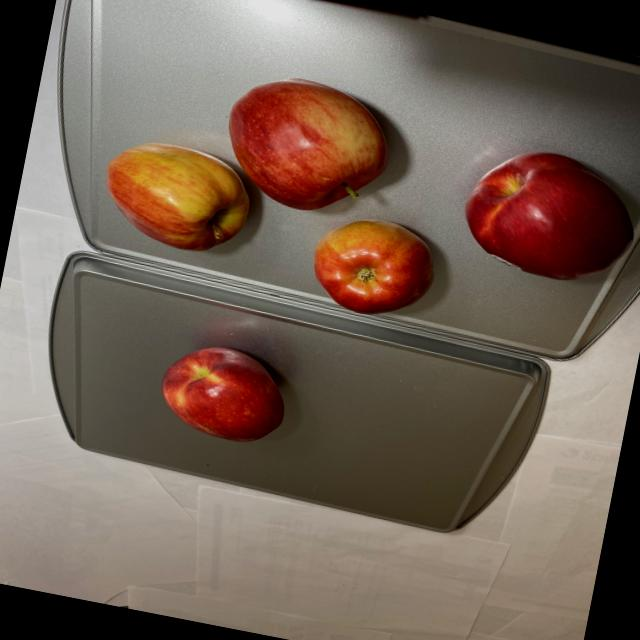apple: (85, 44, 640, 359), (147, 334, 300, 454)
